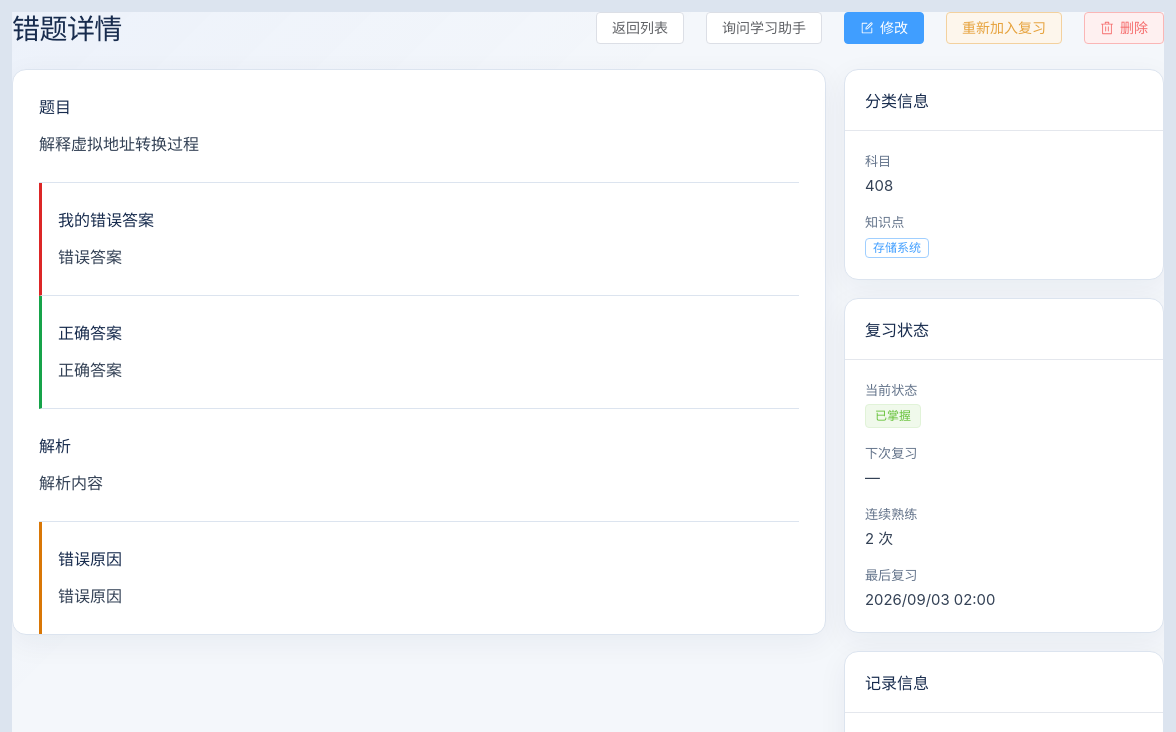
Test case: QuestionDetailView reactivation › reactivates once, refreshes the detail and stays on the page
This screenshot has width=1176, height=732.
Click the button with test id "reactivate-question" at (1004, 28), box [946,12,1062,44]
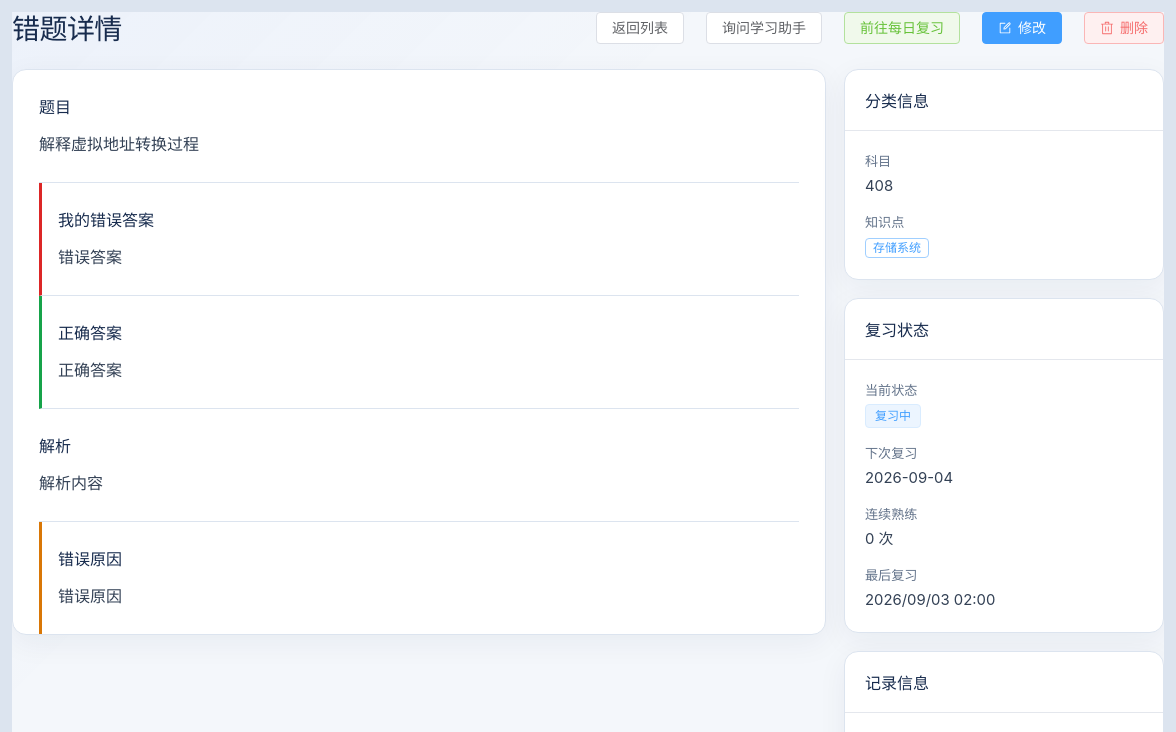
Check: the text "复习中" is shown, box [875,410,911,422]
Check: the button with test id "go-to-daily-review" is shown, box [844,12,960,44]
